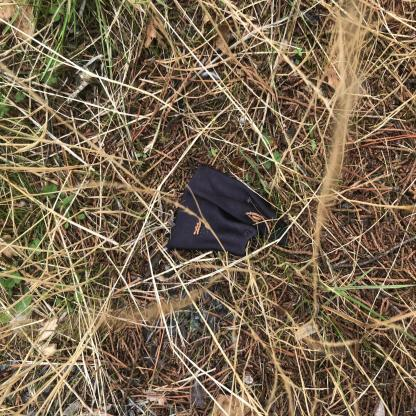trash: (164, 159, 294, 265)
